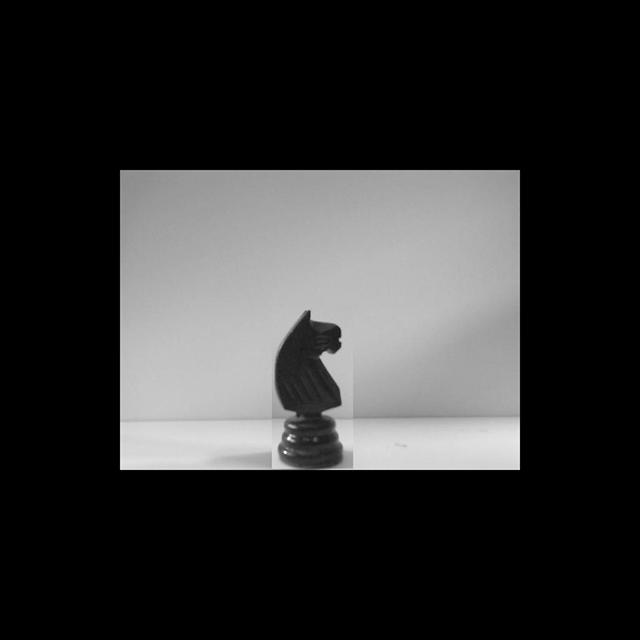black-knight: (272, 306, 353, 468)
